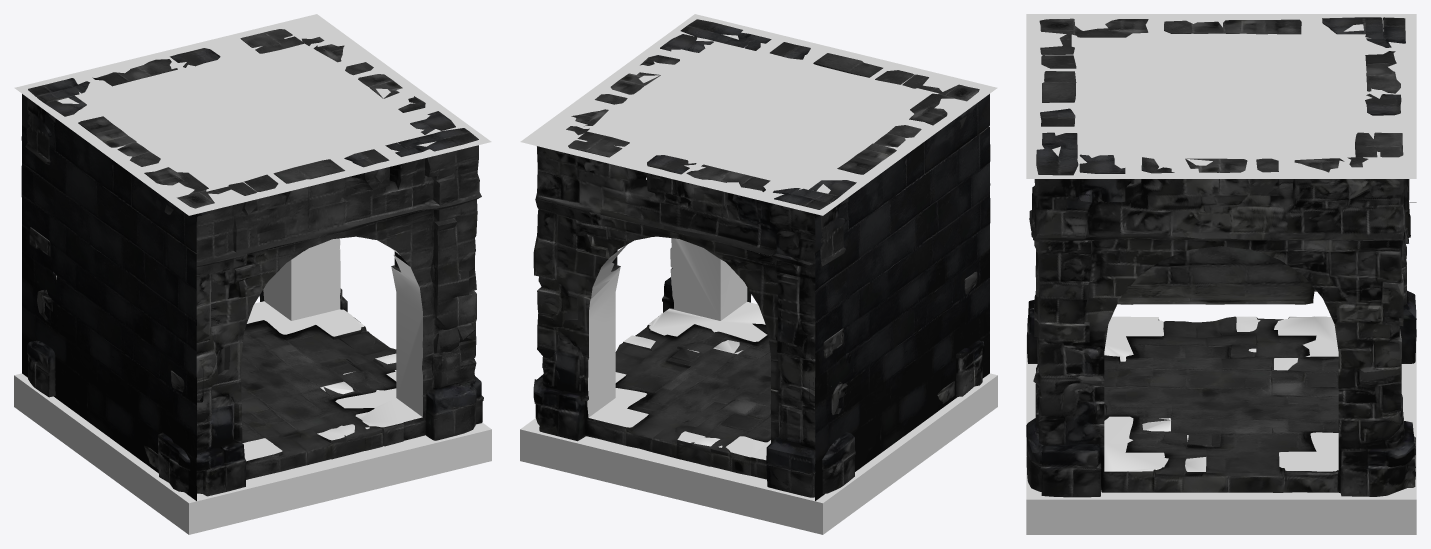
The model's file is module_tee.glb.
3 views of the same model, side by side, from view 1: azimuth 30°, elevation 25°; view 2: azimuth 150°, elevation 25°; view 3: azimuth 270°, elevation 25° (orthographic). The views are drawn at different scales.
Visible parts, largest first — view 1: tripo_node_8c5739aa-f84c-4d8b-8e59-f022d221bb8c; view 2: tripo_node_8c5739aa-f84c-4d8b-8e59-f022d221bb8c; view 3: tripo_node_8c5739aa-f84c-4d8b-8e59-f022d221bb8c.
Boxes of the visible parts, x1,y1,x2,y2 form: tripo_node_8c5739aa-f84c-4d8b-8e59-f022d221bb8c: [14, 14, 491, 534]; tripo_node_8c5739aa-f84c-4d8b-8e59-f022d221bb8c: [520, 14, 997, 534]; tripo_node_8c5739aa-f84c-4d8b-8e59-f022d221bb8c: [1026, 14, 1416, 534].
Size of the model in its own units: 6 by 6.07 by 6.
Materials: 4 (2 with a texture image).
